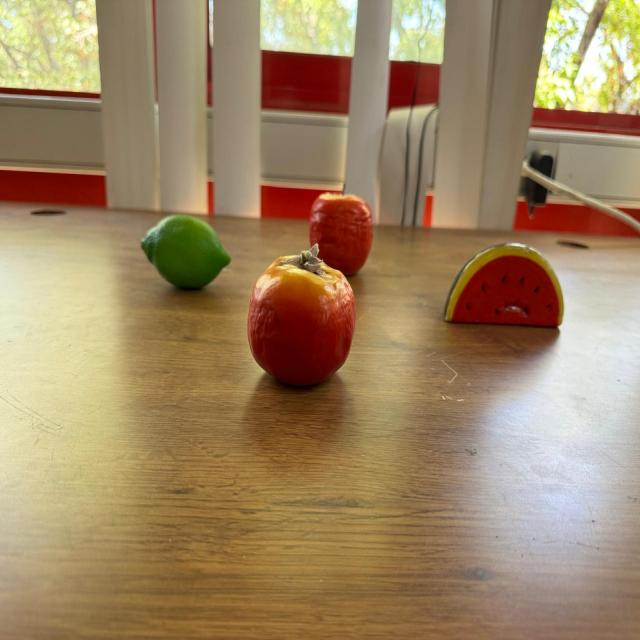apple: (308, 192, 373, 278)
lemon: (141, 214, 231, 289)
tomato: (247, 245, 356, 387)
watermelon: (442, 243, 566, 327)
